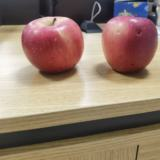apple: (21, 16, 84, 74), (101, 17, 158, 74)
